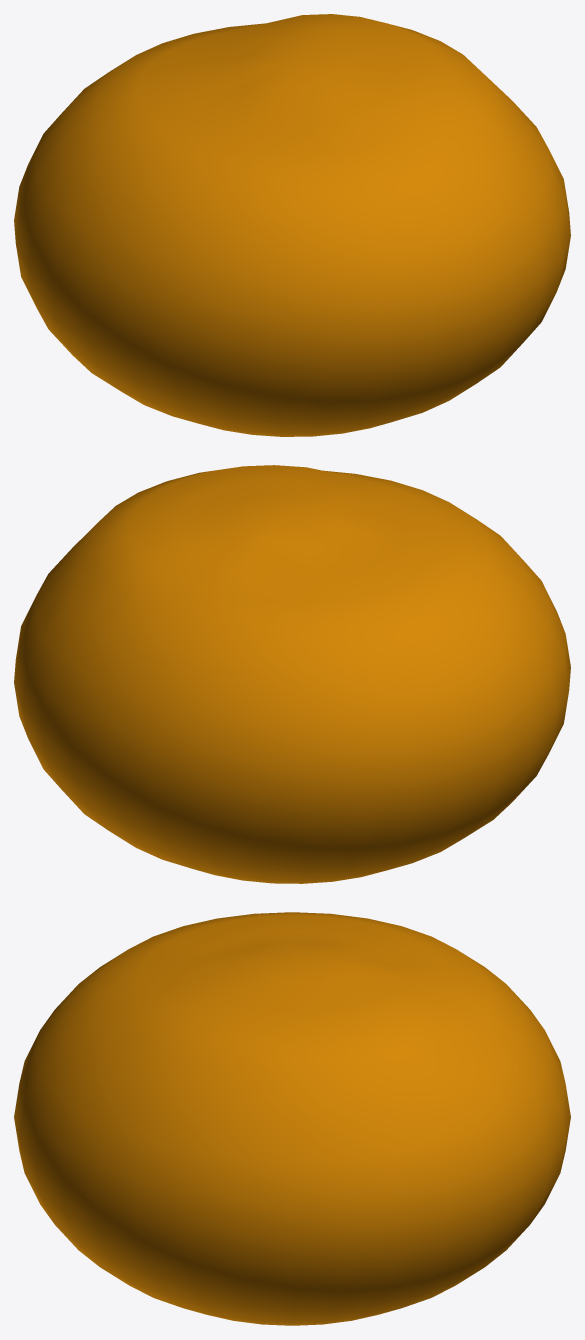
3 views of the same model, one above another, from view 1: azimuth 30°, elevation 25°; view 2: azimuth 150°, elevation 25°; view 3: azimuth 270°, elevation 25° (orthographic).
Parts seen in each view (by area): view 1: Sphere.133; view 2: Sphere.133; view 3: Sphere.133.
Boxes of the visible parts, box(x1,y1,x2,y2) form: Sphere.133: box(14, 14, 570, 436); Sphere.133: box(14, 465, 570, 883); Sphere.133: box(14, 912, 570, 1325).
Bounding box in the file's own units: 1.09 × 0.7209 × 1.09.
